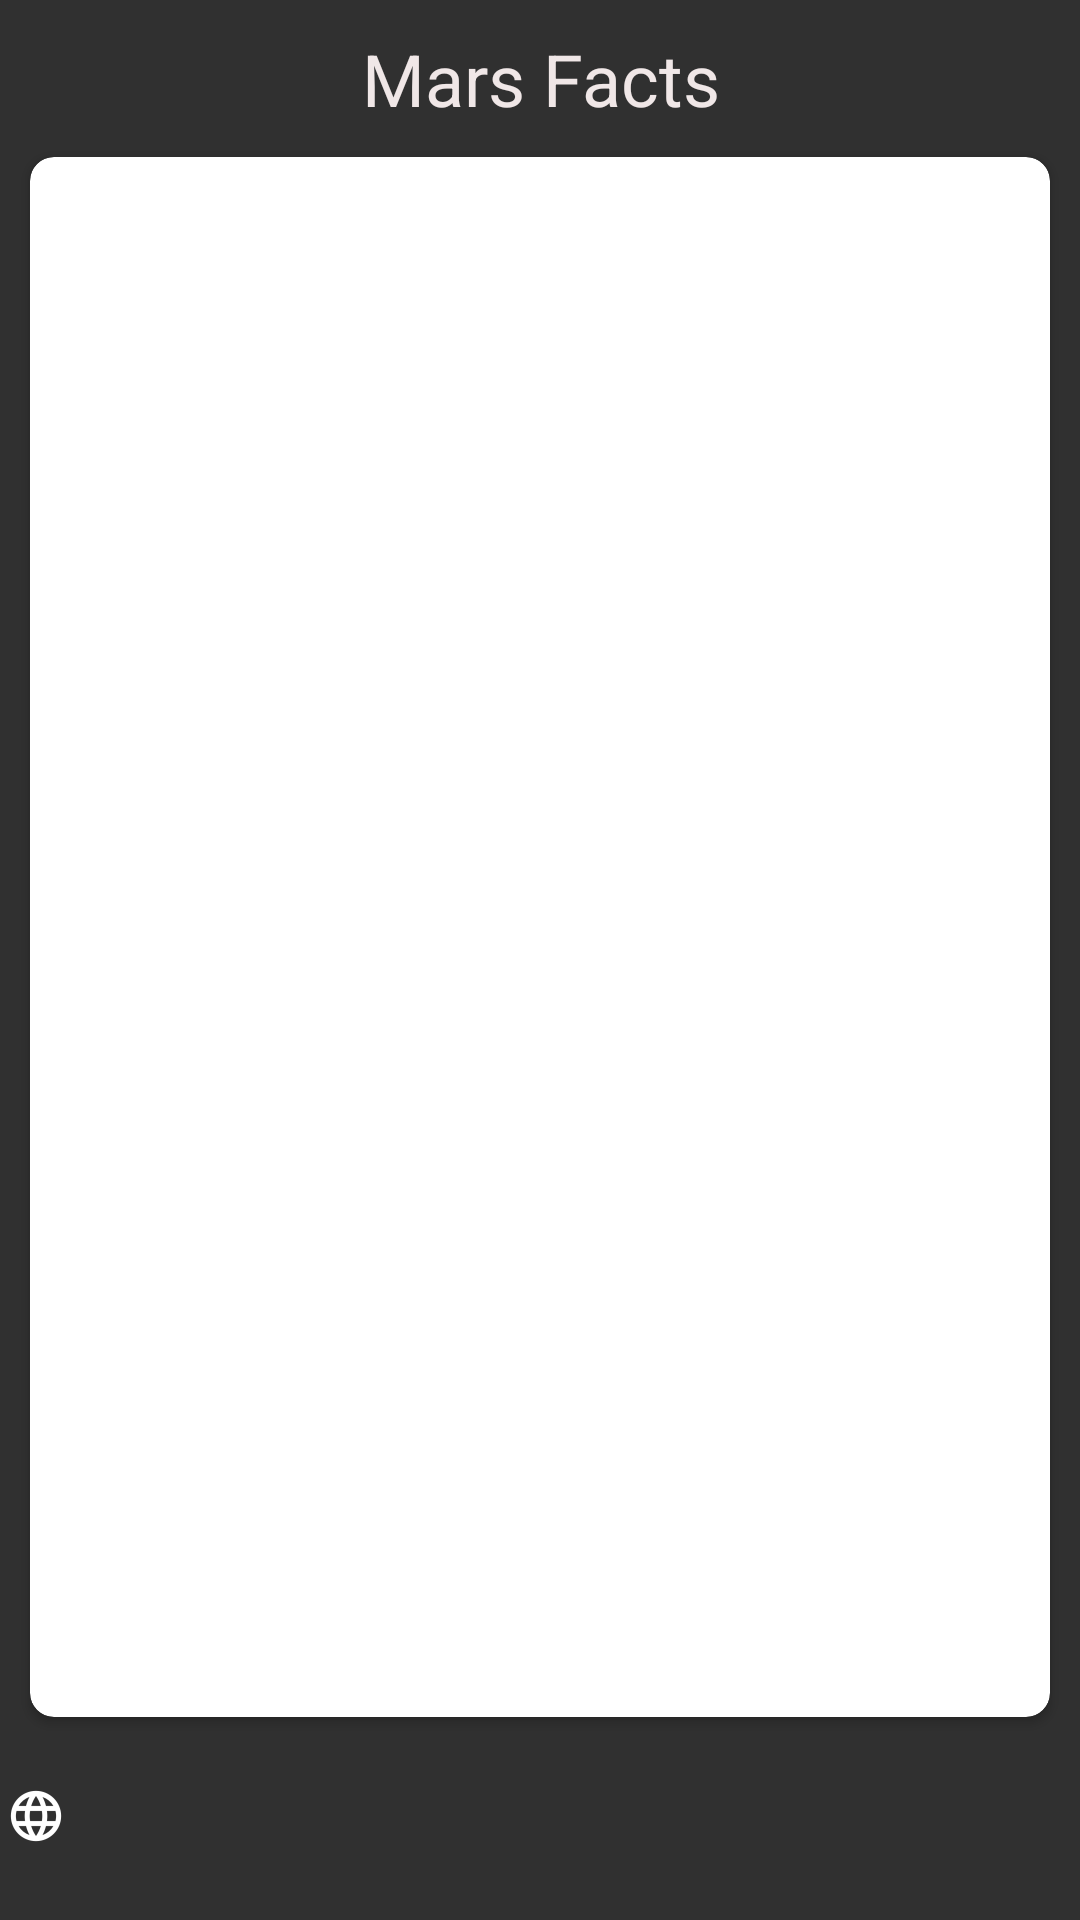

Locate icon controls on the screen. Image size 1080 x 1920, boxes as (x1, y1, x2, y2).
Link to fact source: (10, 1790, 62, 1842)
